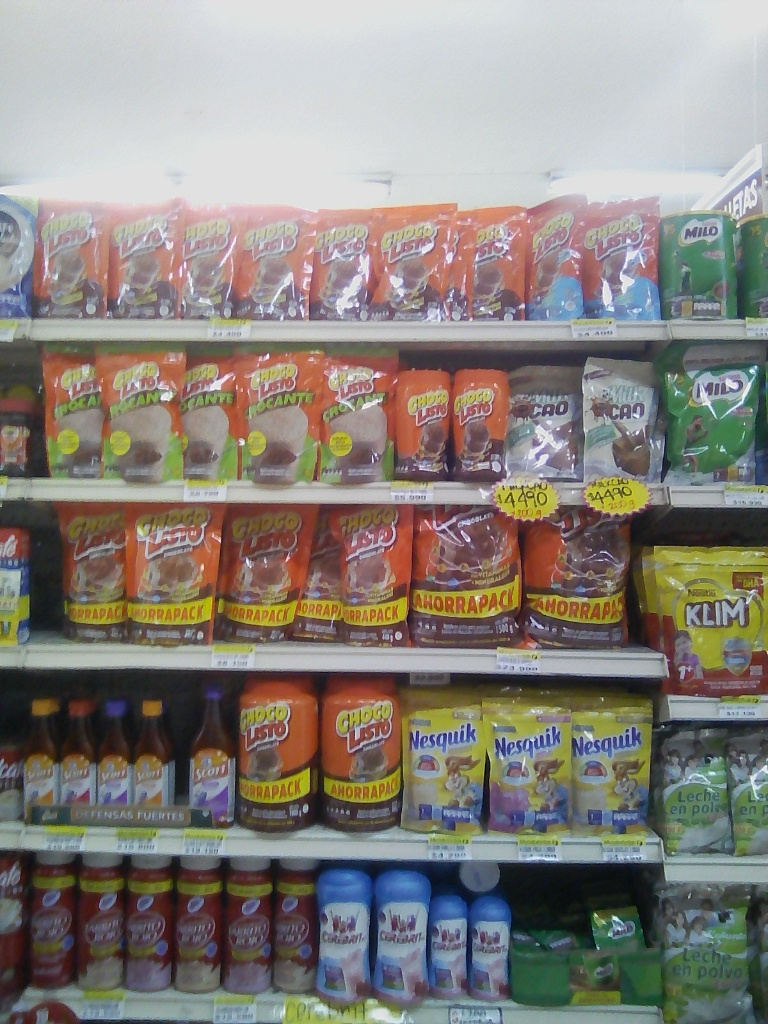COL0170102DYP25000: (317, 341, 398, 482)
COL0170103DYP1,500: (524, 511, 638, 648)
COL0170103DYP20000: (465, 208, 533, 321)
COL0170103DYP40000: (330, 504, 416, 649)
COL0170103TRR00100: (319, 673, 408, 837)
COL0170103TRR30000: (448, 365, 509, 480)
COL0170104DYP20000: (584, 199, 662, 321)
COL0170205DYP50000: (659, 340, 765, 487)
COL0170305DYP20000: (481, 694, 577, 836)
COL0170306DYP20000: (571, 697, 652, 836)
